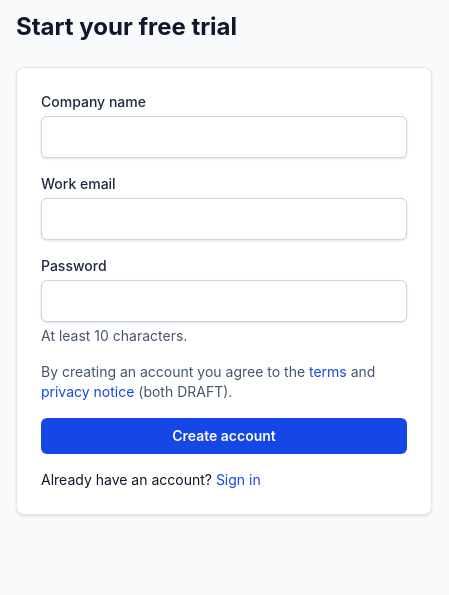
Scenario: SignUp › shows the server's field problems joined as one message (short password, bad email)
Type "short" into the password field labelled "Password" at [224, 301], box [41, 280, 407, 322]
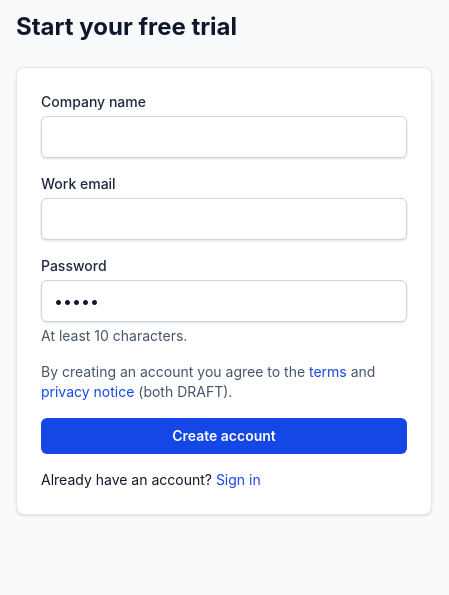
Click the button "Create account" at [224, 436], box [41, 418, 407, 454]
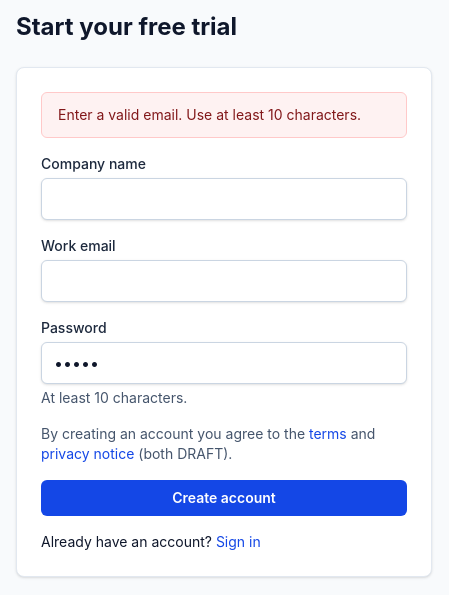
Check: the message reads "Enter a valid email. Use at least 10 characters.", box [58, 106, 361, 123]
